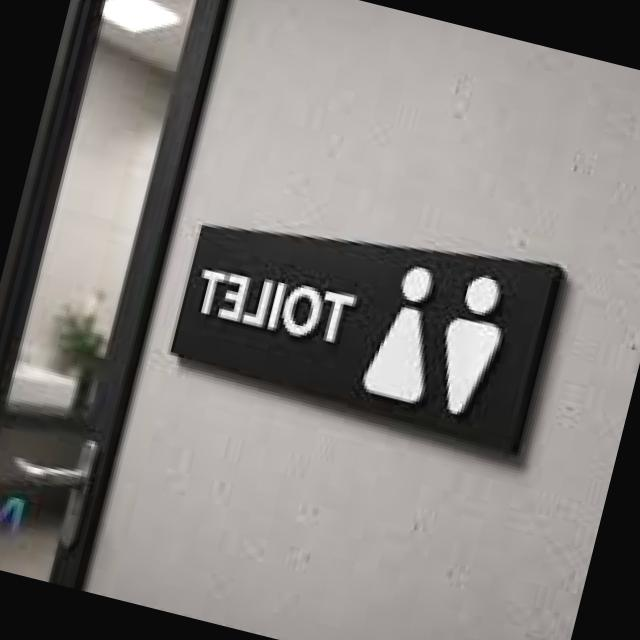toilet_icon: (342, 228, 532, 446)
